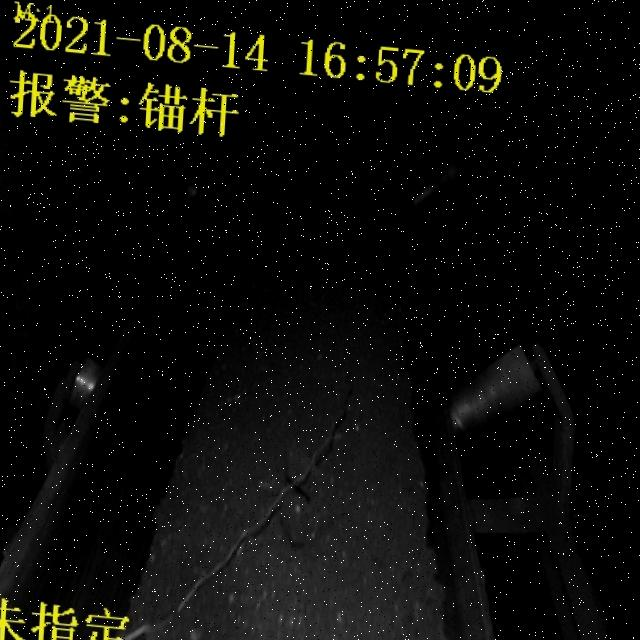bolt: (139, 380, 358, 640)
